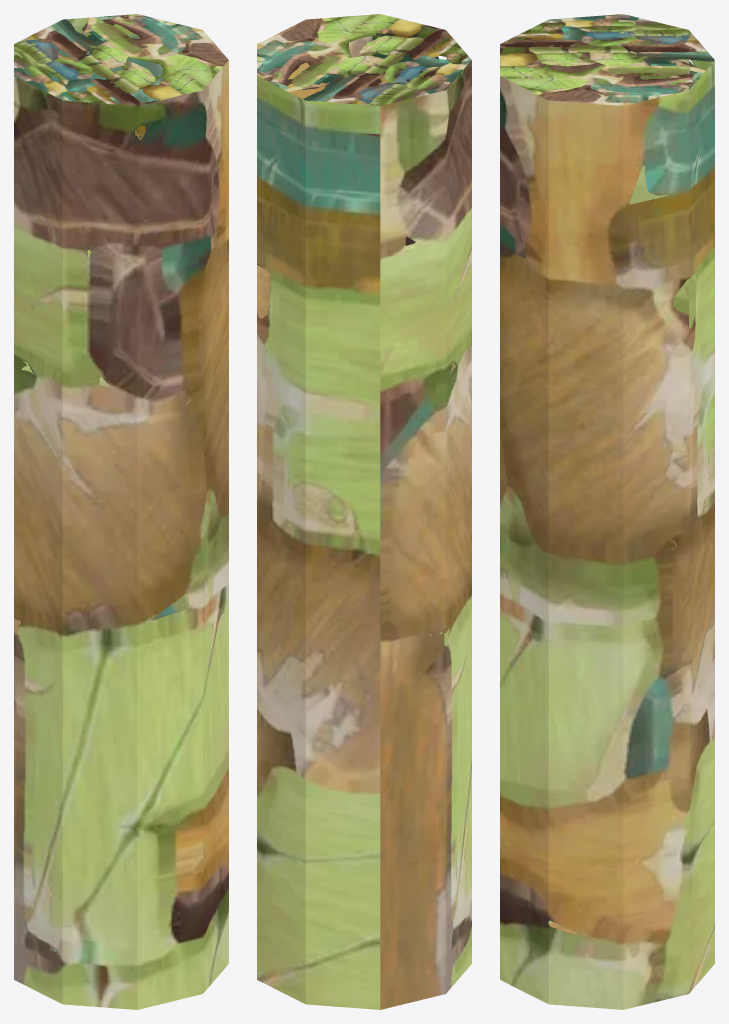
3 renders of one model, left to right at view 1: azimuth 30°, elevation 25°; view 2: azimuth 150°, elevation 25°; view 3: azimuth 270°, elevation 25°, orthographic.
Visible parts, largest first — view 1: SM_Totem_Pole_01_LOD0; view 2: SM_Totem_Pole_01_LOD0; view 3: SM_Totem_Pole_01_LOD0.
Part boxes in pixels (<box>): SM_Totem_Pole_01_LOD0: <box>14,14,228,1009</box>; SM_Totem_Pole_01_LOD0: <box>257,14,471,1009</box>; SM_Totem_Pole_01_LOD0: <box>500,14,714,1009</box>.
Size of the model in its own units: 0.0463 by 0.2116 by 0.0456.
